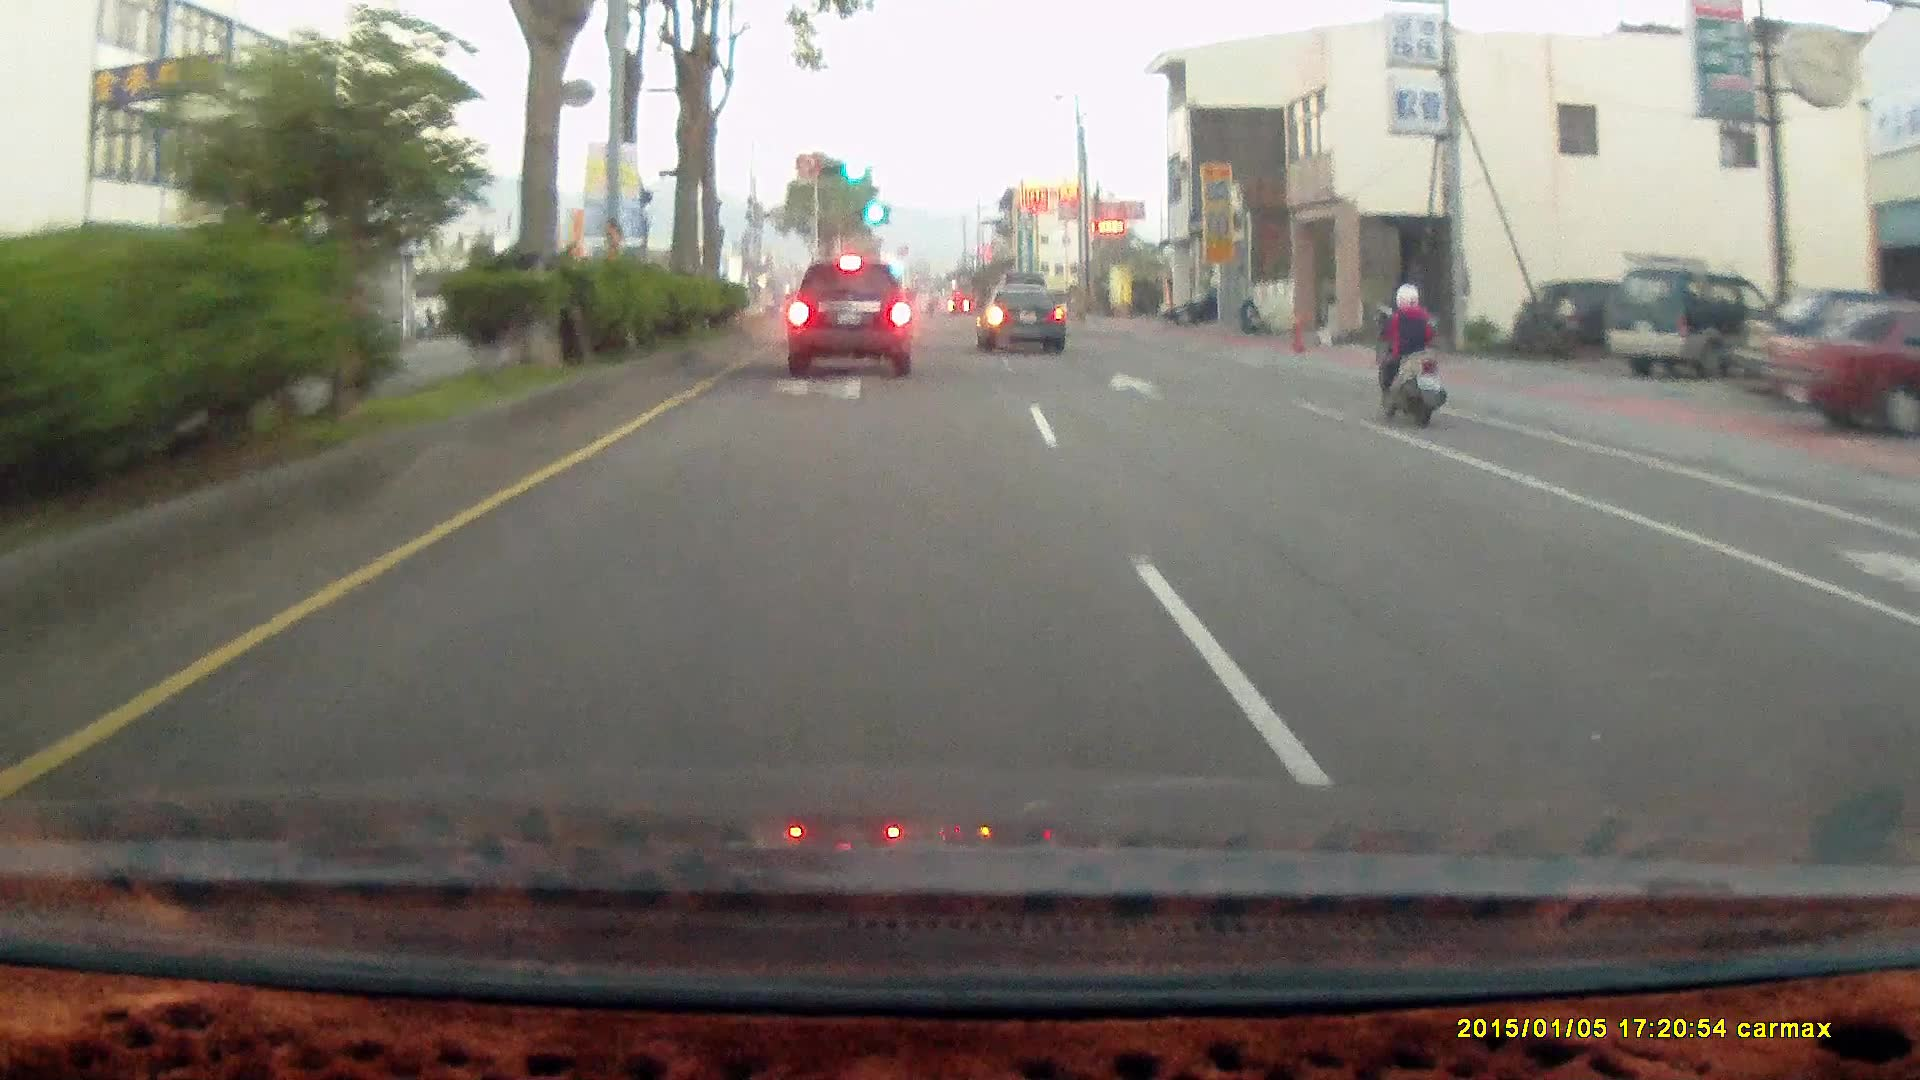rider: (1359, 270, 1460, 442), (1369, 284, 1447, 428)
vehicle: (1758, 297, 1920, 439), (1764, 300, 1920, 439), (1602, 268, 1790, 382), (1605, 269, 1783, 386), (790, 253, 918, 374), (784, 260, 910, 378), (1514, 279, 1629, 357), (976, 286, 1071, 357), (978, 285, 1065, 351), (1158, 288, 1255, 326), (1157, 289, 1221, 331)
